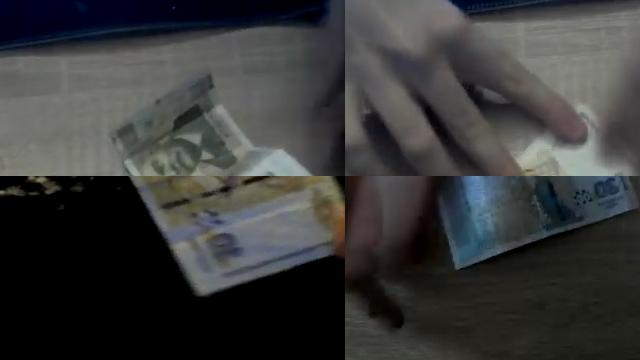10leva: (126, 176, 345, 299), (111, 75, 312, 176)
20leva: (434, 176, 639, 271)
